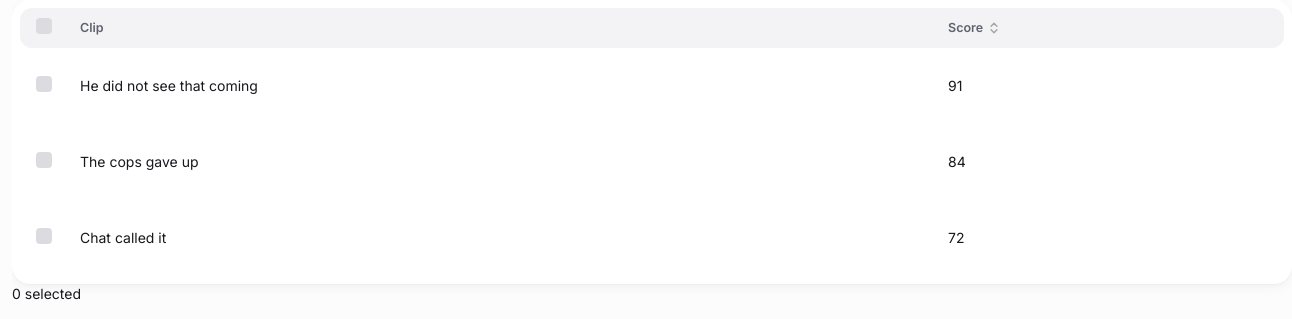
Scenario: Table sorting and selection › selects rows one by one and all at once
What coordinates should you click on to do the following:
click the checkbox named "Select The cops gave up"
I would click on:
 (44, 160)
Its box is [36,152,52,168].
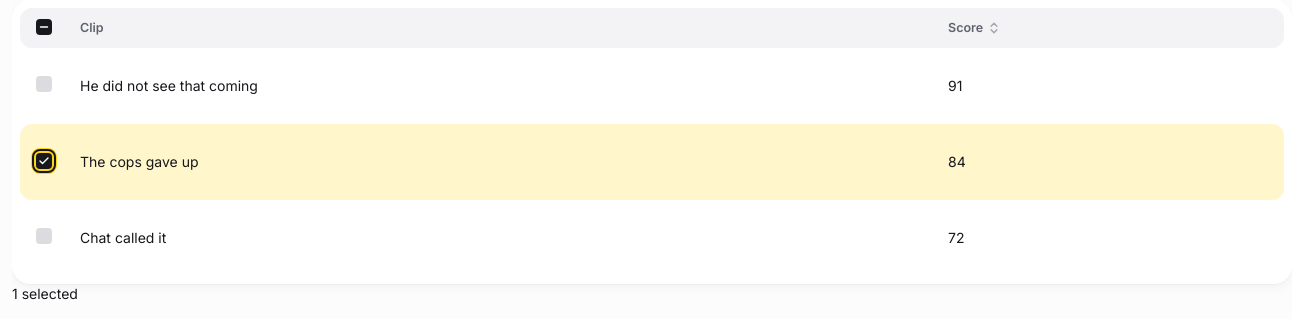
expect the text "1 selected" is shown: met, box [12,285,78,302]
What coordinates should you click on to do the following:
click the checkbox named "Select all clips"
I would click on:
 (44, 27)
Its box is [36,19,52,35].
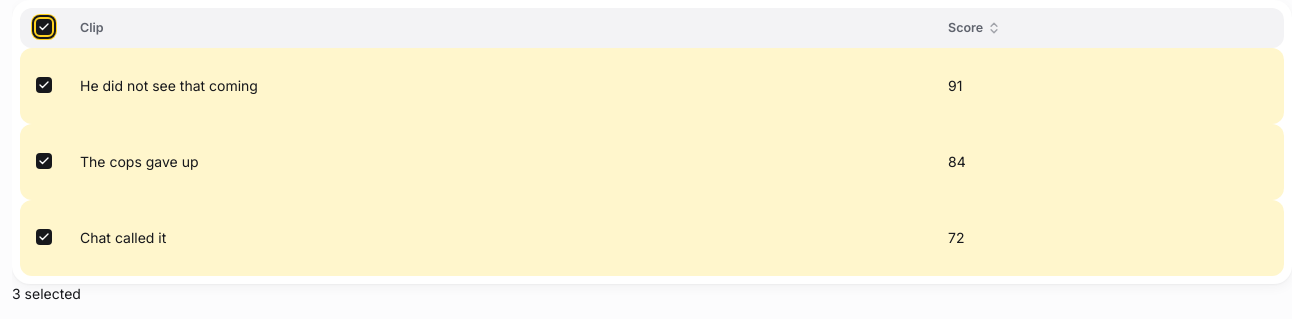
expect the checkbox named "Select all clips" is checked: met
expect the text "3 selected" is shown: met, box [12,285,81,302]
What coordinates should you click on to do the following:
click the checkbox named "Select all clips"
I would click on:
 (44, 27)
Its box is [36,19,52,35].
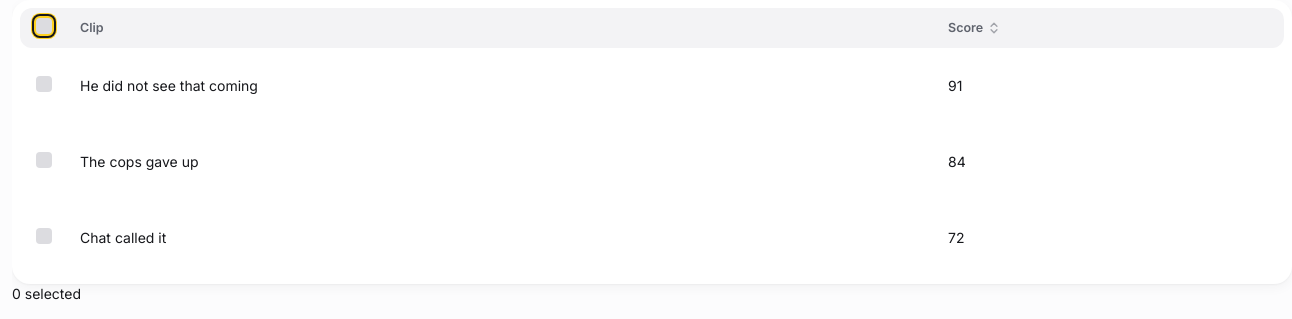
expect the text "0 selected" is shown: met, box [12,285,81,302]
